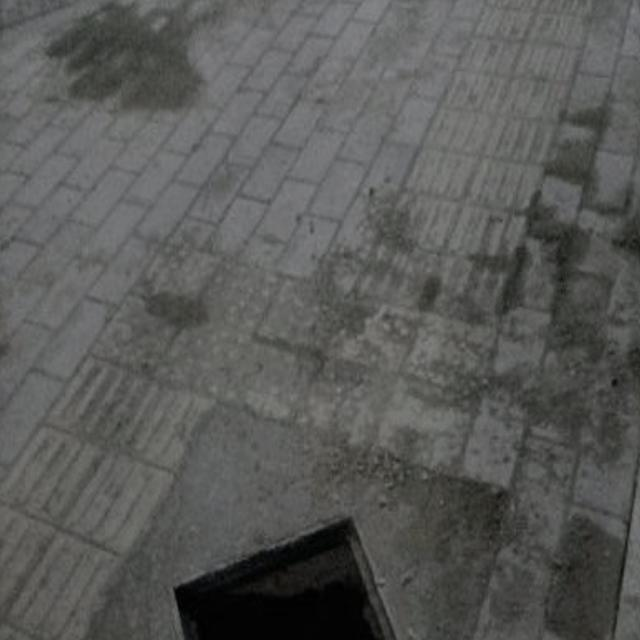lose: (143, 511, 448, 640)
